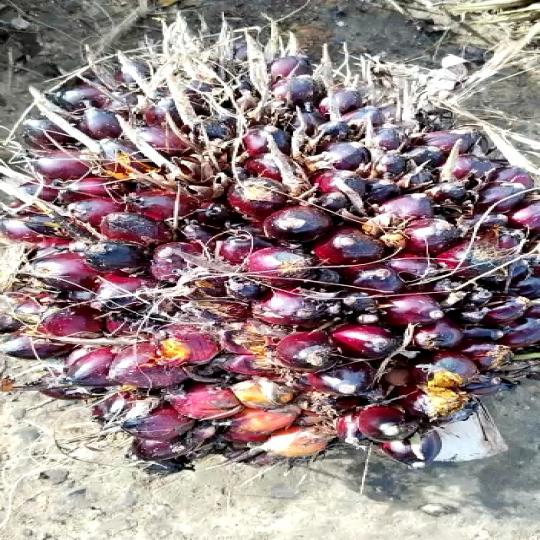kurang masak: (0, 26, 540, 498)
